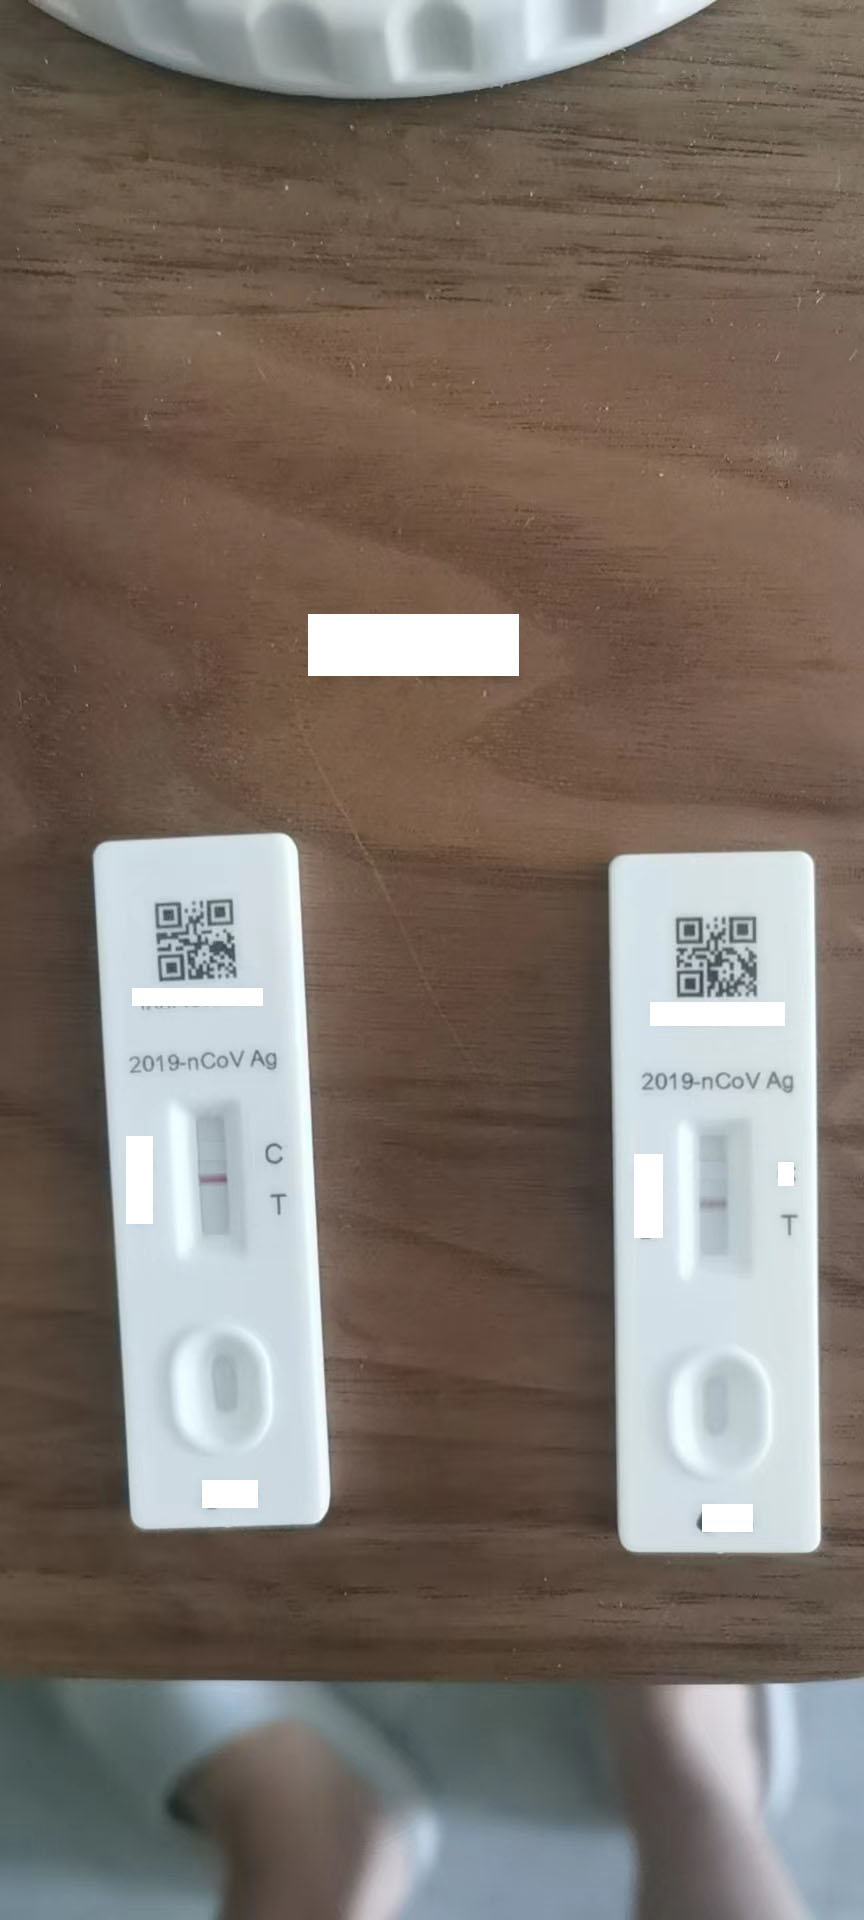negative: (164, 1104, 244, 1269), (691, 1131, 753, 1287)
